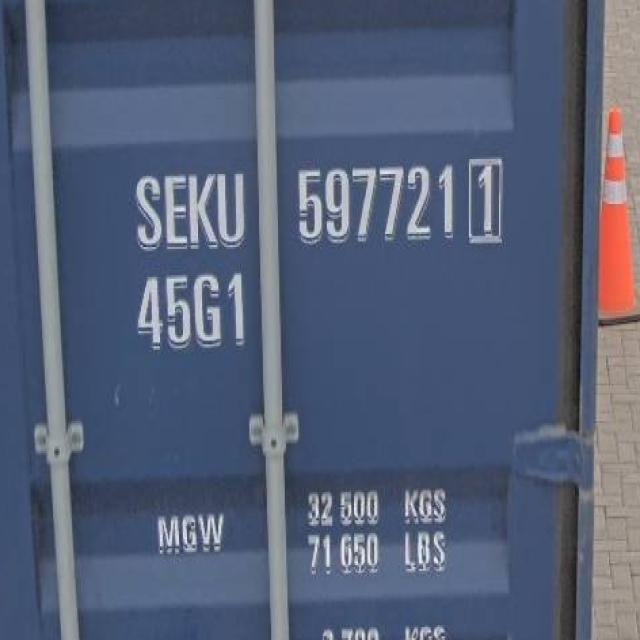dv: (463, 151, 509, 254)
owner: (125, 169, 252, 254)
serial: (289, 160, 460, 251)
size: (125, 267, 252, 358)
